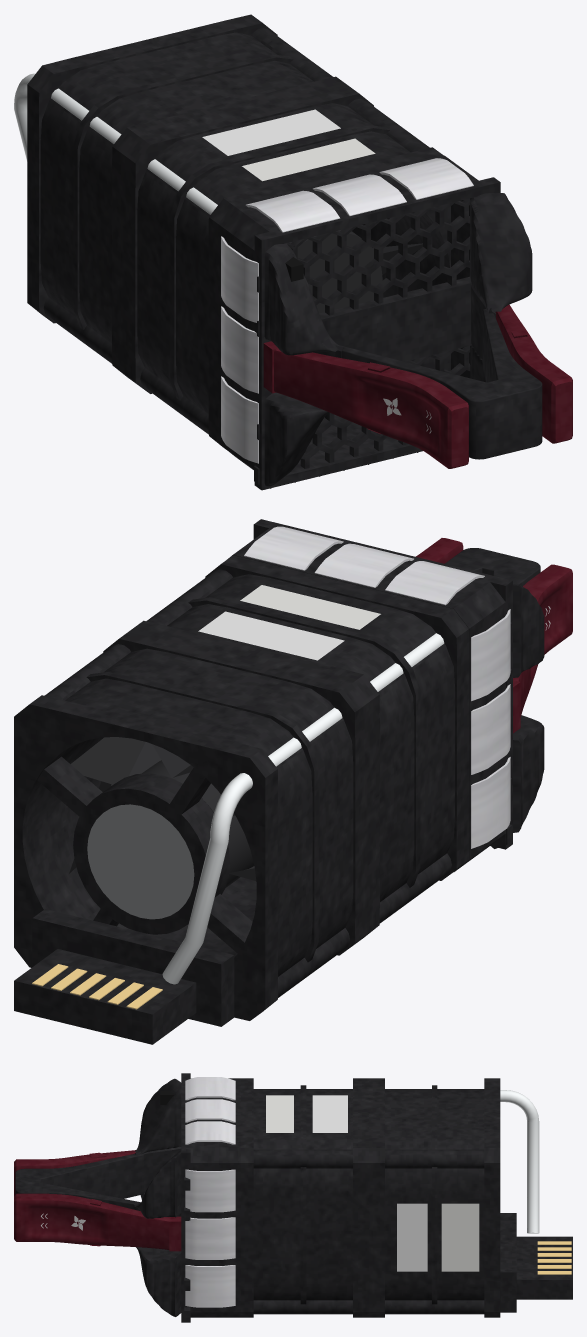
Rendered from FAN-T2.glb.
3 views of the same model, one above another, from view 1: azimuth 30°, elevation 25°; view 2: azimuth 150°, elevation 25°; view 3: azimuth 270°, elevation 25° (orthographic). The views are drawn at different scales.
Parts seen in each view (by area): view 1: Body; view 2: Body; view 3: Body.
Boxes of the visible parts, left/top/right/bottom form: Body: left=14, top=14, right=572, bottom=490; Body: left=14, top=519, right=572, bottom=1044; Body: left=14, top=1073, right=572, bottom=1322.
Size of the model in its own units: 0.0421 by 0.0414 by 0.1192.
Materials: 10 (3 with a texture image).
